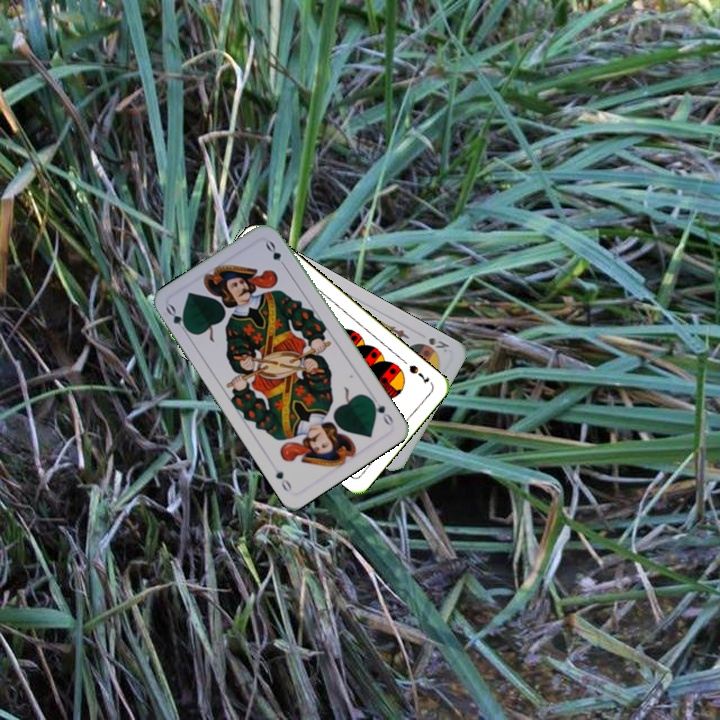GO: (161, 300, 193, 338), (366, 394, 396, 429)
S7: (405, 361, 432, 387)
SK: (424, 333, 452, 355)
